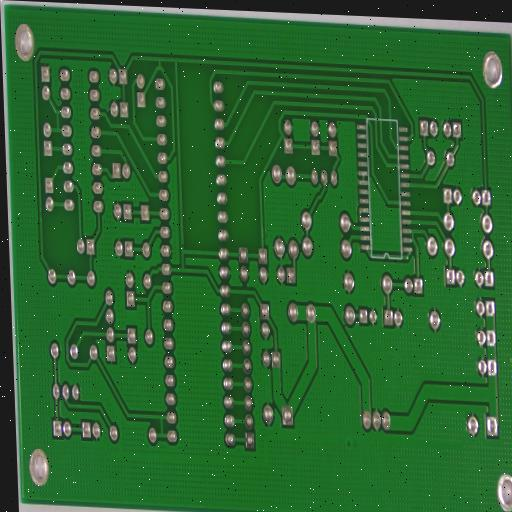short_circuit: (49, 104, 65, 140), (154, 54, 167, 76), (409, 229, 418, 247)
